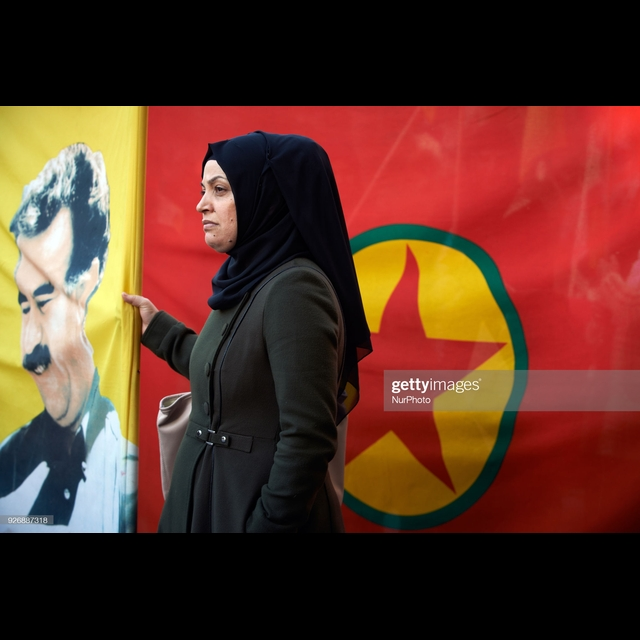APO: (6, 163, 115, 456)
